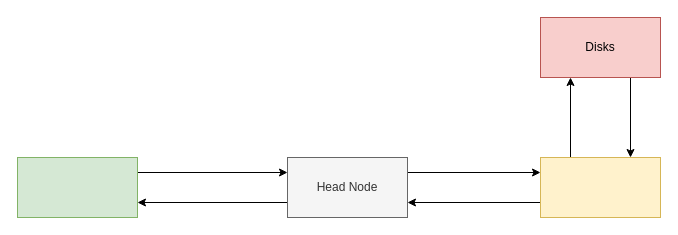
The diagram is 678 pixels wide and 235 high, and some of its shapes have lost their labels. The centre of each missing label's shape, as x and y in pixels:
"IO Switch" goes at point 600,187.
"Local" goes at point 77,187.
